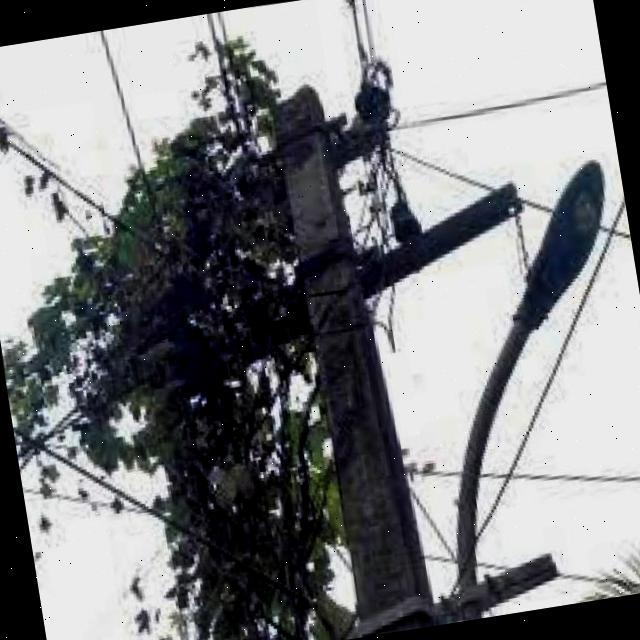critical vegetation: (0, 14, 491, 543)
